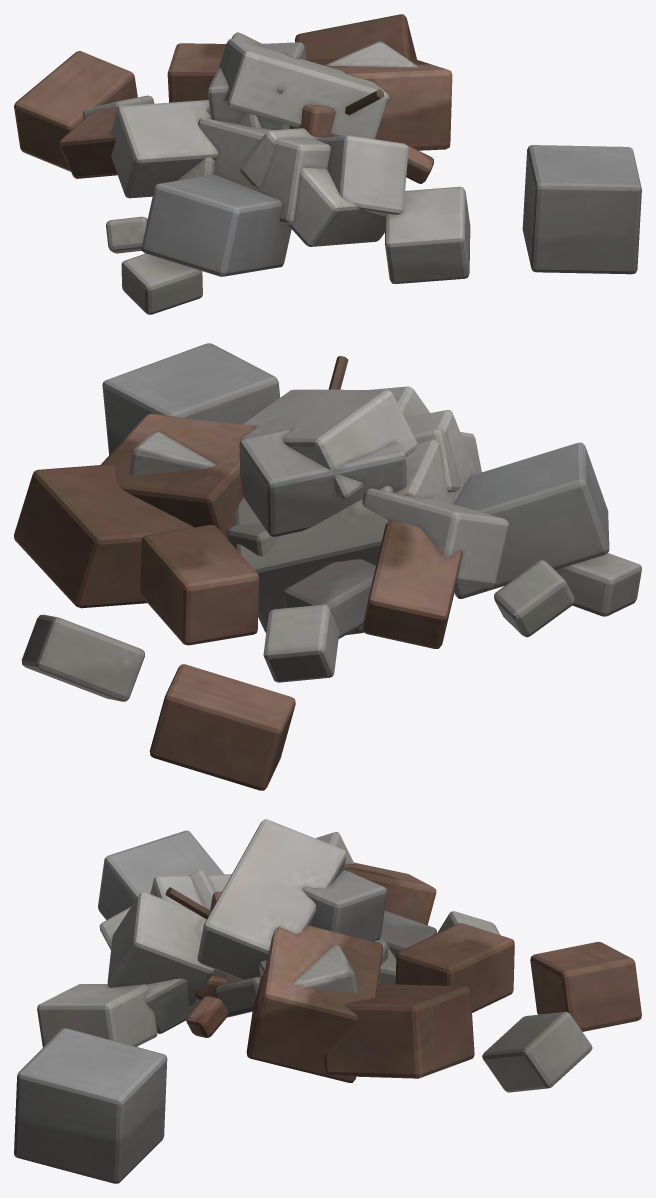
File: rubble.glb
3 renders of one model, top to bottom at view 1: azimuth 30°, elevation 25°; view 2: azimuth 150°, elevation 25°; view 3: azimuth 270°, elevation 25°, orthographic. The views are drawn at different scales.
Visible parts, largest first — view 1: rubble; view 2: rubble; view 3: rubble.
Boxes of the visible parts, x1=… form: rubble: x1=14, y1=14, x2=641, y2=314; rubble: x1=14, y1=343, x2=641, y2=790; rubble: x1=14, y1=819, x2=641, y2=1183.
Bounding box in the file's own units: 1.31 × 0.5552 × 1.46.
Materials: 1 (1 with a texture image).
